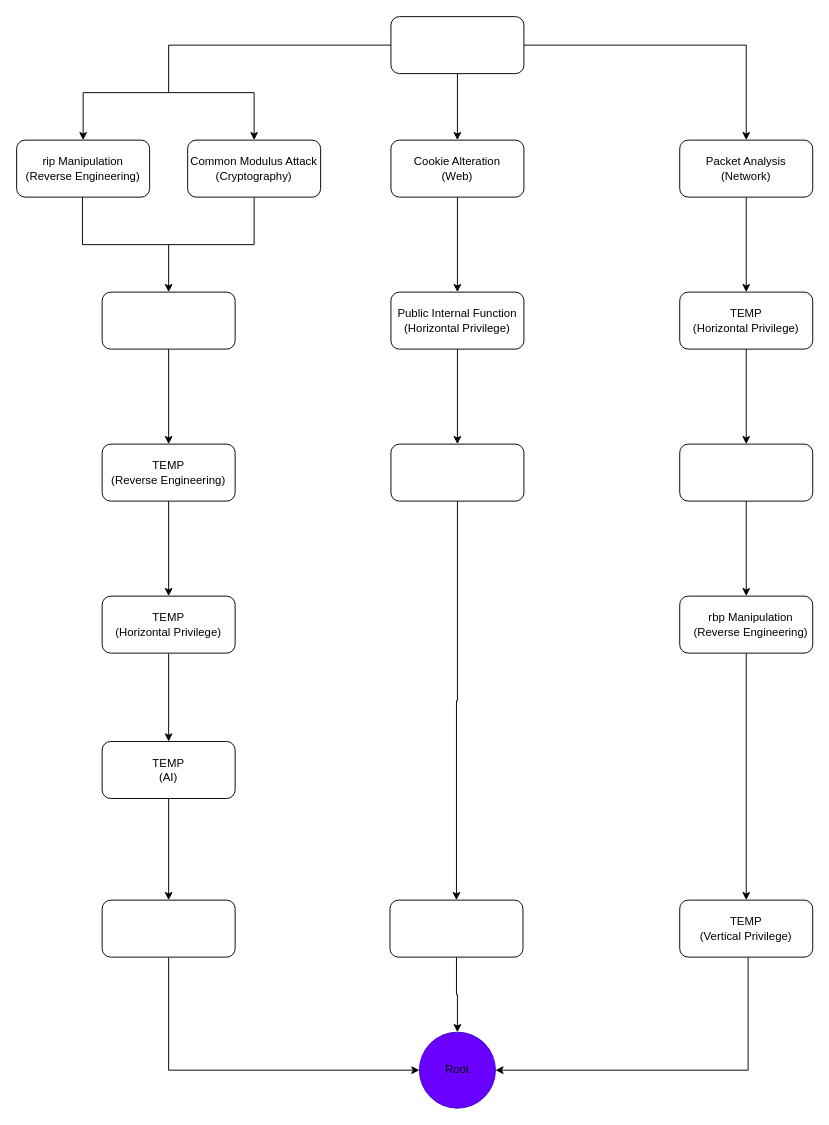
The diagram is 829 pixels wide and 1125 high, and some of its shapes have lost their labels. Here are the shapes that lost their labels. From the top down, the centre of each, then its label:
At point 457,45: "SQL Injection (Web)".
At point 168,320: "FTP (Network)".
At point 457,472: "Cookie Deserialisation (Web)".
At point 746,472: "TEMP (Network)".
At point 168,928: "PATH Hijacking (Vertical Privilege)".
At point 456,928: "Wildcard Injection (Vertical Privilege)".
